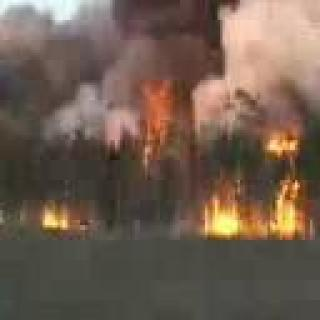fire: (210, 172, 314, 238), (138, 73, 181, 148), (261, 126, 306, 158), (44, 204, 80, 235)
